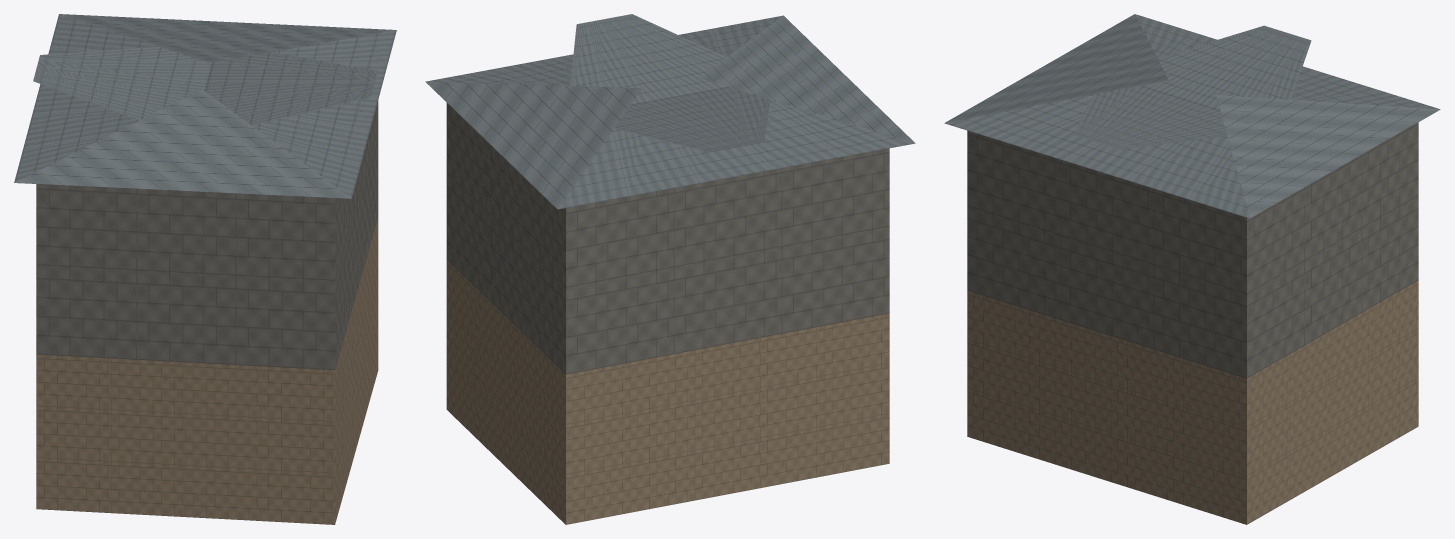
The model's file is bld_c20_29_391.gltf.
3 views of the same model, side by side, from view 1: azimuth 30°, elevation 25°; view 2: azimuth 150°, elevation 25°; view 3: azimuth 270°, elevation 25° (orthographic). The views are drawn at different scales.
Parts seen in each view (by area): view 1: bld_c20_29_391; view 2: bld_c20_29_391; view 3: bld_c20_29_391.
Boxes of the visible parts, <box> form: bld_c20_29_391: <box>14,14,396,524</box>; bld_c20_29_391: <box>425,14,915,524</box>; bld_c20_29_391: <box>944,14,1440,524</box>.
Bounding box in the file's own units: 15.3 × 12 × 15.7.
3 materials, 3 textured.
